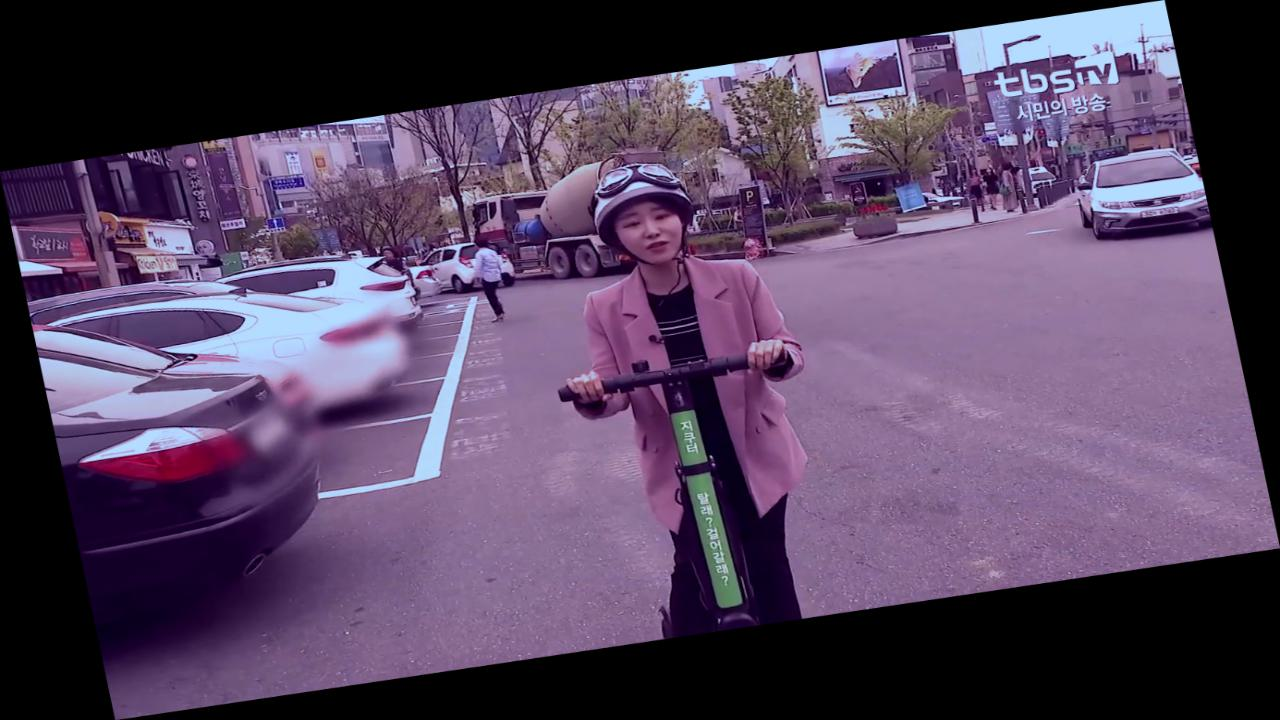helmet: (510, 144, 863, 647)
